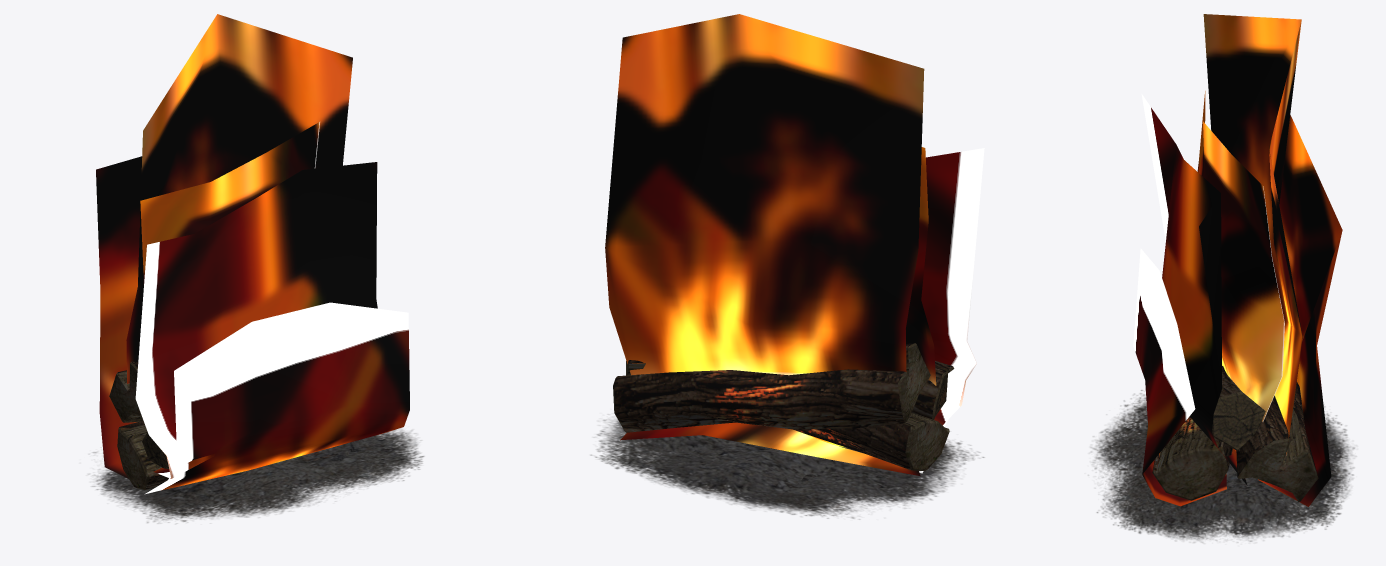
Rendered from fire.glb.
3 views of the same model, side by side, from view 1: azimuth 30°, elevation 25°; view 2: azimuth 150°, elevation 25°; view 3: azimuth 270°, elevation 25° (orthographic). The views are drawn at different scales.
Visible parts, largest first — view 1: Feu01, Ashes_Ashes_0, Logs; view 2: Feu01, Logs, Ashes_Ashes_0; view 3: Feu01, Ashes_Ashes_0, Logs.
Part boxes in pixels (bbox=[...]): Feu01: bbox=[96, 14, 409, 494]; Ashes_Ashes_0: bbox=[88, 429, 424, 523]; Logs: bbox=[109, 361, 168, 489]; Feu01: bbox=[605, 14, 984, 476]; Logs: bbox=[613, 343, 954, 470]; Ashes_Ashes_0: bbox=[590, 419, 984, 519]; Feu01: bbox=[1133, 14, 1342, 506]; Ashes_Ashes_0: bbox=[1088, 390, 1354, 542]; Logs: bbox=[1152, 366, 1318, 501].
Size of the model in its own units: 4.82 by 5.75 by 3.46.
Materials: 3 (3 with a texture image).
